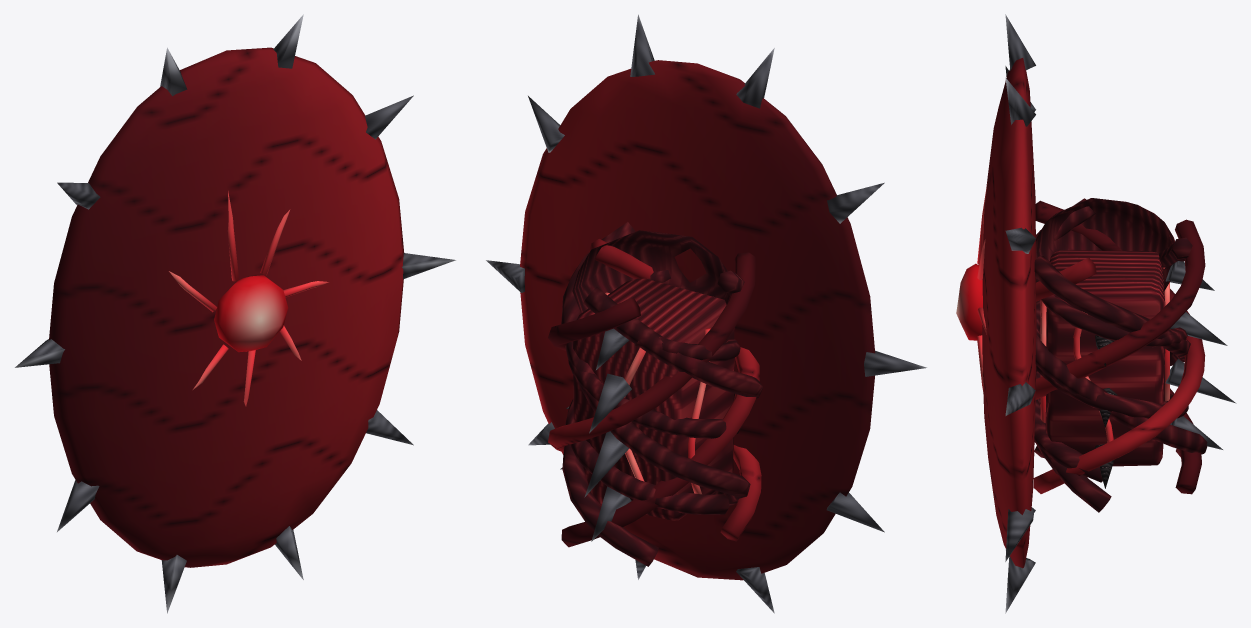
File: parasite_bulwark.obj
The picture shows the model from 3 angles, left to right: view 1: azimuth 30°, elevation 25°; view 2: azimuth 150°, elevation 25°; view 3: azimuth 270°, elevation 25°; orthographic projection. The views are drawn at different scales.
Parts seen in each view (by area): view 1: bulwark; view 2: bulwark; view 3: bulwark.
Part boxes in pixels (x1=…): bulwark: x1=15, y1=14, x2=455, y2=613; bulwark: x1=486, y1=14, x2=926, y2=613; bulwark: x1=956, y1=14, x2=1236, y2=613.
Bounding box in the file's own units: 1.24 × 1.52 × 0.7177.
